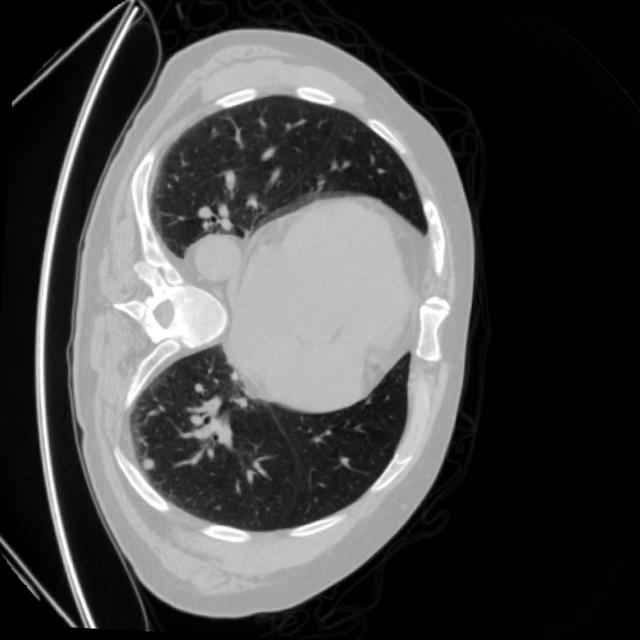nodule: (134, 450, 162, 480)
